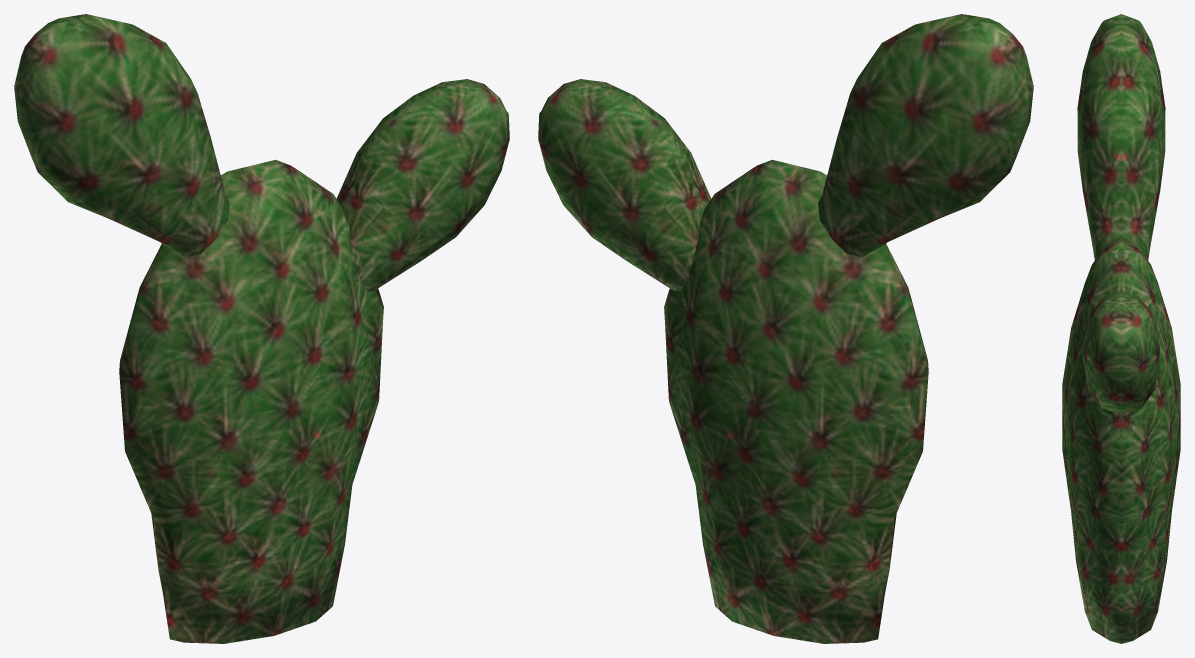
Rendered from cactus-07.fbx.
3 views of the same model, side by side, from view 1: azimuth 30°, elevation 25°; view 2: azimuth 150°, elevation 25°; view 3: azimuth 270°, elevation 25° (orthographic). The views are drawn at different scales.
Parts seen in each view (by area): view 1: Sphere.004_Sphere.000; view 2: Sphere.004_Sphere.000; view 3: Sphere.004_Sphere.000.
Boxes of the visible parts, box(x1,y1,x2,y2) form: Sphere.004_Sphere.000: box(14, 14, 509, 643); Sphere.004_Sphere.000: box(538, 14, 1033, 643); Sphere.004_Sphere.000: box(1062, 14, 1180, 643).
Bounding box in the file's own units: 0.7257 × 0.9229 × 0.1902.
